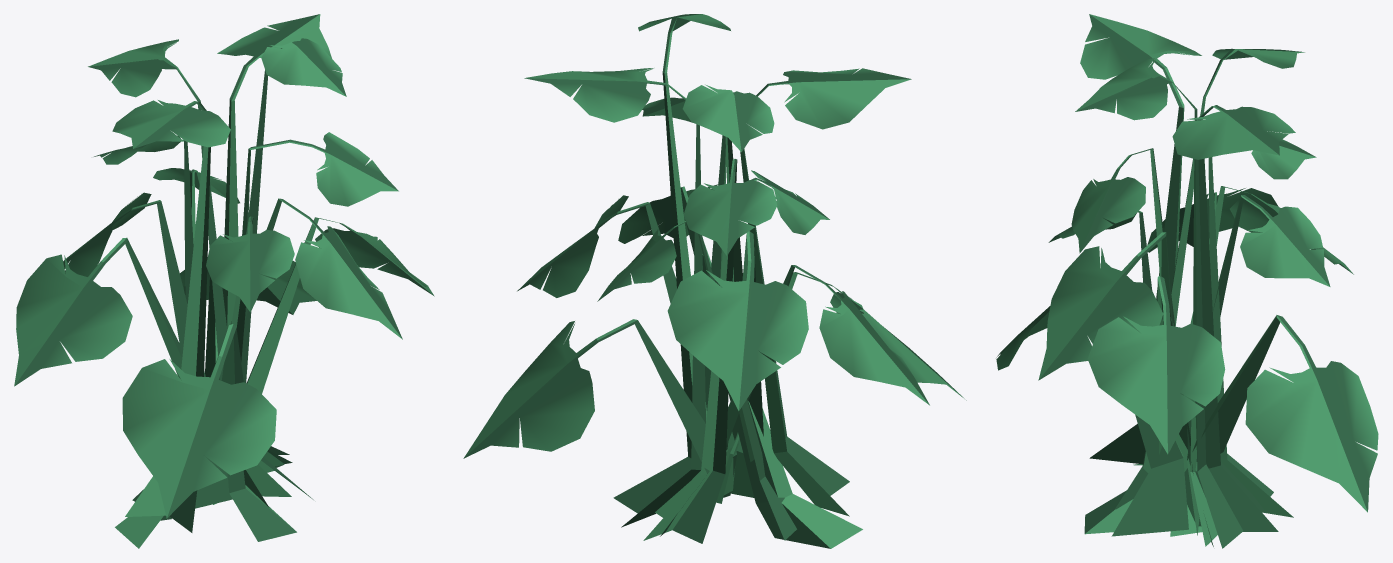
Rendered from big-leaf-plant-02.fbx.
3 views of the same model, side by side, from view 1: azimuth 30°, elevation 25°; view 2: azimuth 150°, elevation 25°; view 3: azimuth 270°, elevation 25° (orthographic). The views are drawn at different scales.
Parts seen in each view (by area): view 1: Plane.006; view 2: Plane.006; view 3: Plane.006.
Part boxes in pixels (x1,y1,x2,y2): Plane.006: (14,14,434,548); Plane.006: (463,14,966,548); Plane.006: (996,14,1378,548).
Bounding box in the file's own units: 601 × 653 × 470.
